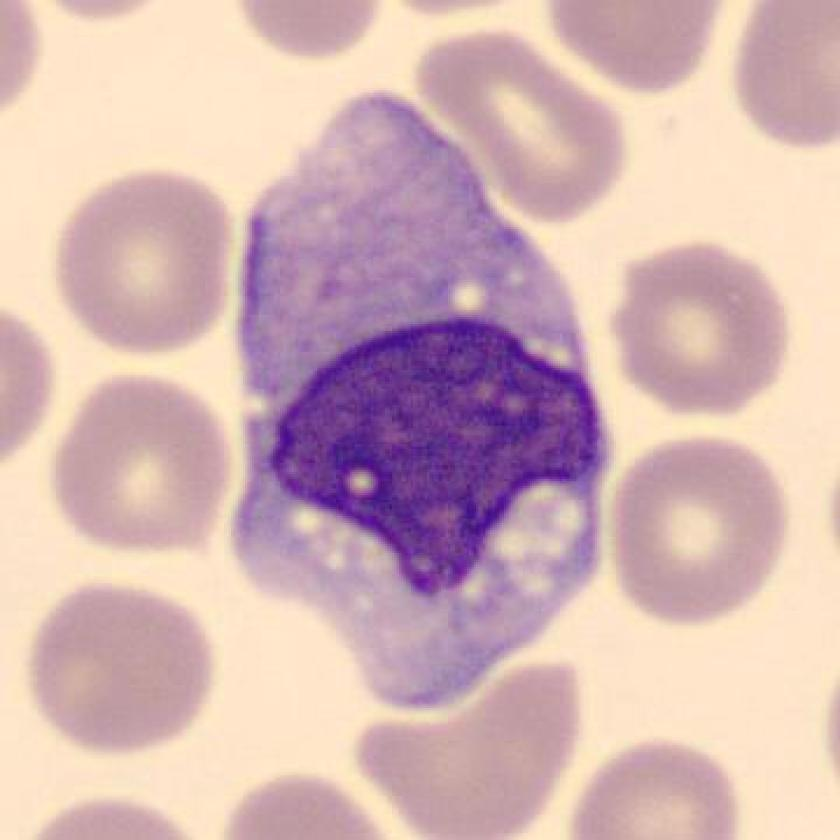monocyte: (202, 77, 631, 737)
